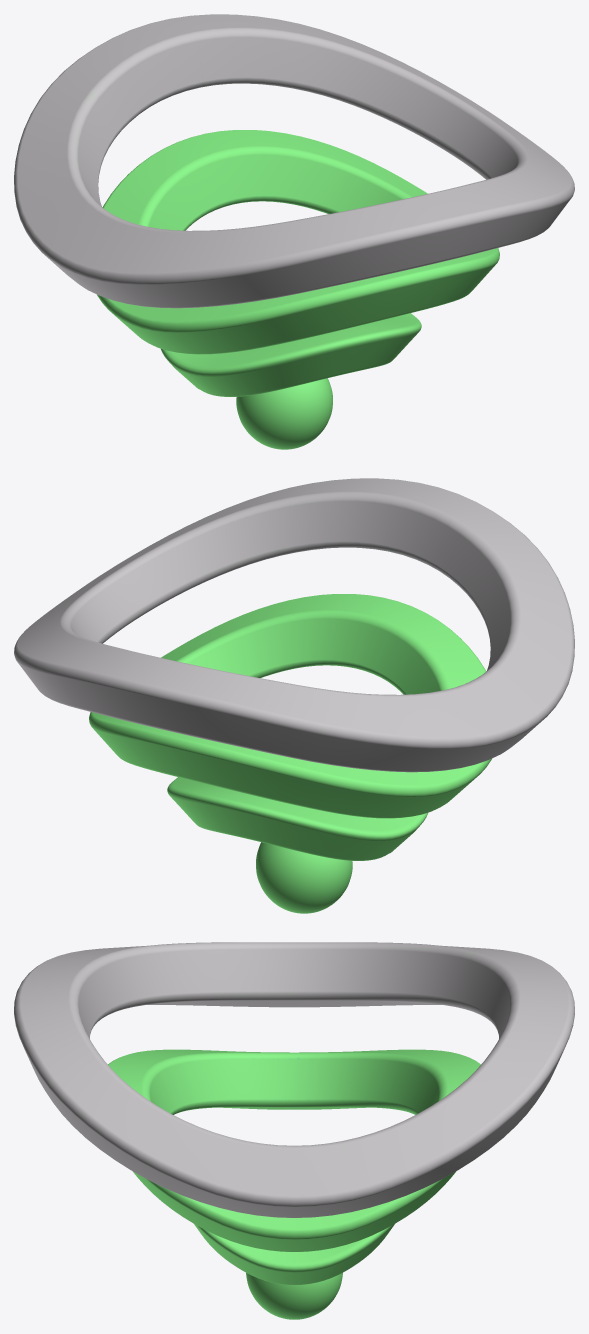
Rendered from wifi.fbx.
3 views of the same model, one above another, from view 1: azimuth 30°, elevation 25°; view 2: azimuth 150°, elevation 25°; view 3: azimuth 270°, elevation 25° (orthographic).
Parts seen in each view (by area): view 1: node_id30; view 2: node_id30; view 3: node_id30.
Boxes of the visible parts, x1,y1,x2,y2 form: node_id30: (14, 14, 574, 449); node_id30: (14, 478, 574, 913); node_id30: (14, 942, 574, 1319).
Size of the model in its own units: 0.5043 by 0.323 by 0.5033.
1 material, 1 textured.
